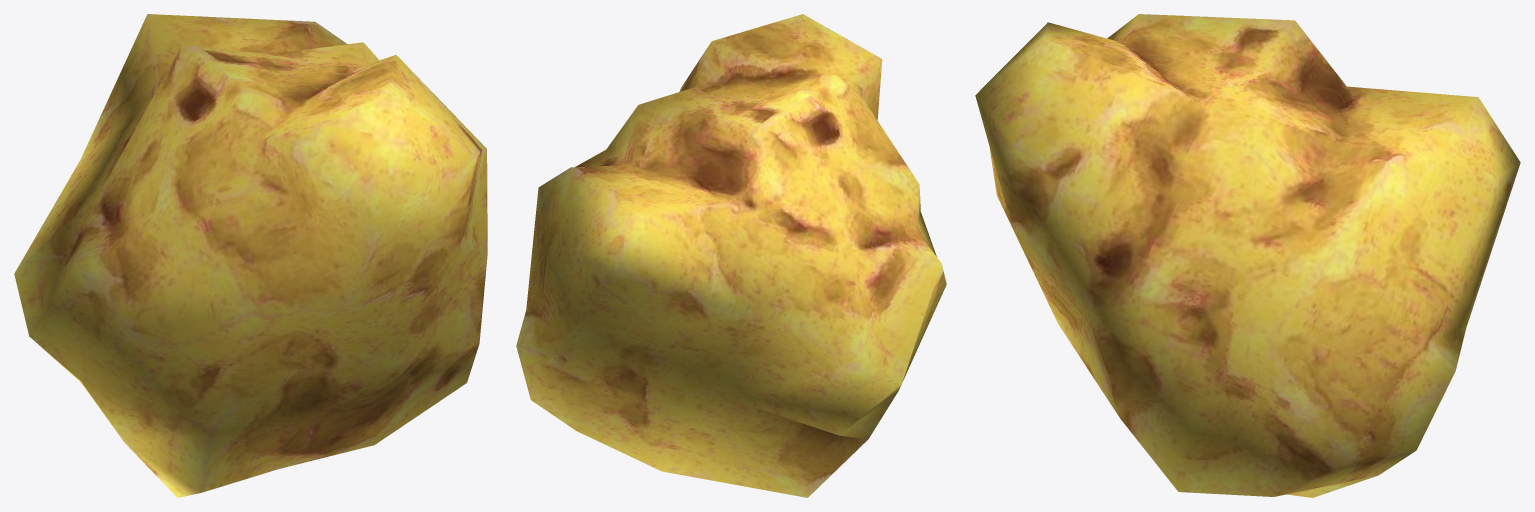
The model's file is resourcenode-base.glb.
3 renders of one model, left to right at view 1: azimuth 30°, elevation 25°; view 2: azimuth 150°, elevation 25°; view 3: azimuth 270°, elevation 25°, orthographic. The views are drawn at different scales.
Size of the model in its own units: 0.5235 by 0.5371 by 0.5757.
Materials: 1 (1 with a texture image).
